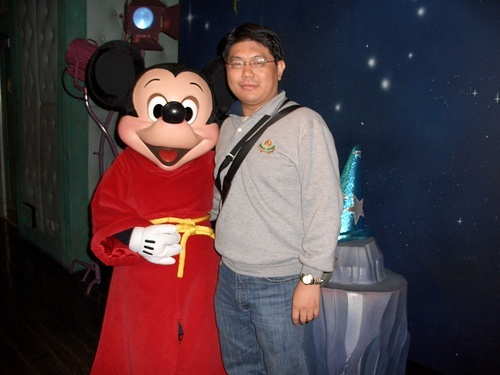head: (221, 26, 288, 105)
person: (208, 22, 336, 375)
